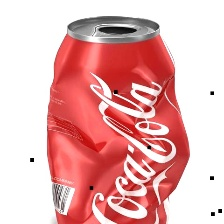can: (44, 13, 196, 224)
